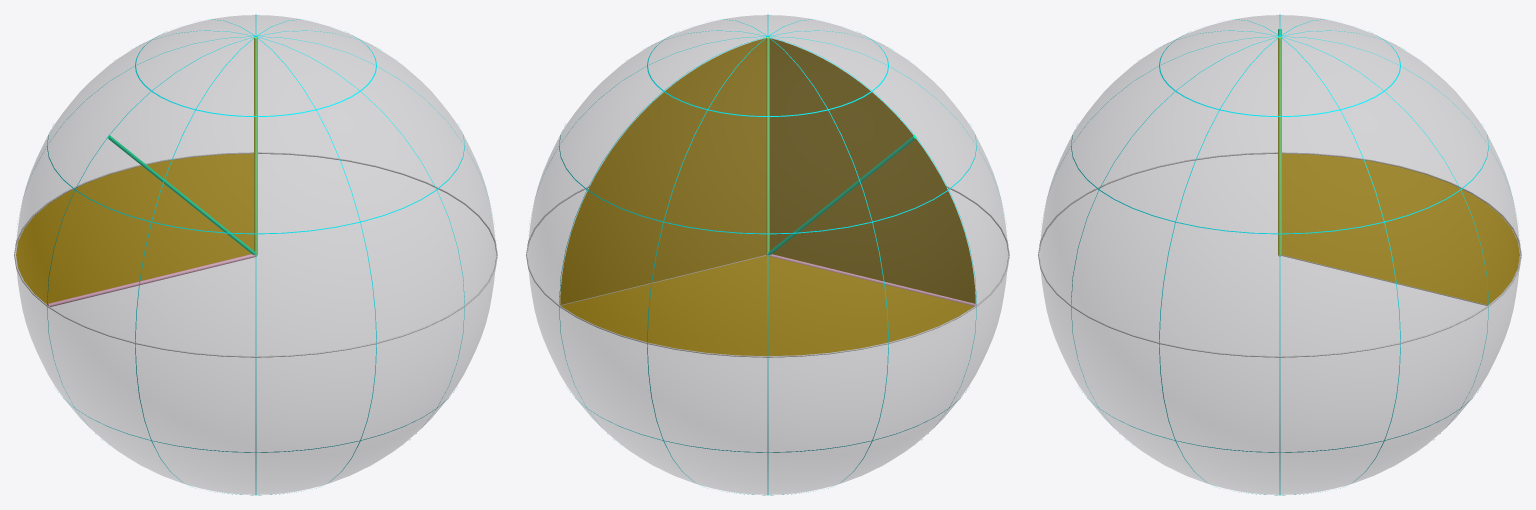
File: earth.glb
3 views of the same model, side by side, from view 1: azimuth 30°, elevation 25°; view 2: azimuth 150°, elevation 25°; view 3: azimuth 270°, elevation 25° (orthographic).
Visible parts, largest first — view 1: polySurface1, polySurface4, quface, fullLine, pTorus1, equatorial, pCylinder1, pCylinder9; view 2: quface, polySurface4, polySurface1, fullLine, pTorus1, pCylinder1, pCylinder9, equatorial; view 3: polySurface1, polySurface4, quface, fullLine, pTorus1, pCylinder1.
Boxes of the visible parts, x1,y1,x2,y2 form: polySurface1: (16,15,495,494); polySurface4: (16,153,253,304); quface: (16,15,255,303); fullLine: (23,14,488,495); pTorus1: (14,152,497,357); equatorial: (47,254,256,306); pCylinder1: (254,37,257,255); pCylinder9: (107,135,256,255); quface: (560,38,975,355); polySurface4: (560,38,975,356); polySurface1: (528,15,1007,494); fullLine: (535,14,1000,495); pTorus1: (526,186,1009,357); pCylinder1: (766,37,769,255); pCylinder9: (767,135,916,255); equatorial: (768,254,976,306); polySurface1: (1040,15,1519,494); polySurface4: (1282,153,1519,304); quface: (1280,15,1519,304); fullLine: (1047,14,1512,495); pTorus1: (1038,152,1521,357); pCylinder1: (1278,37,1281,255).
Bounding box in the file's own units: 20.16 × 20.1 × 20.16.
